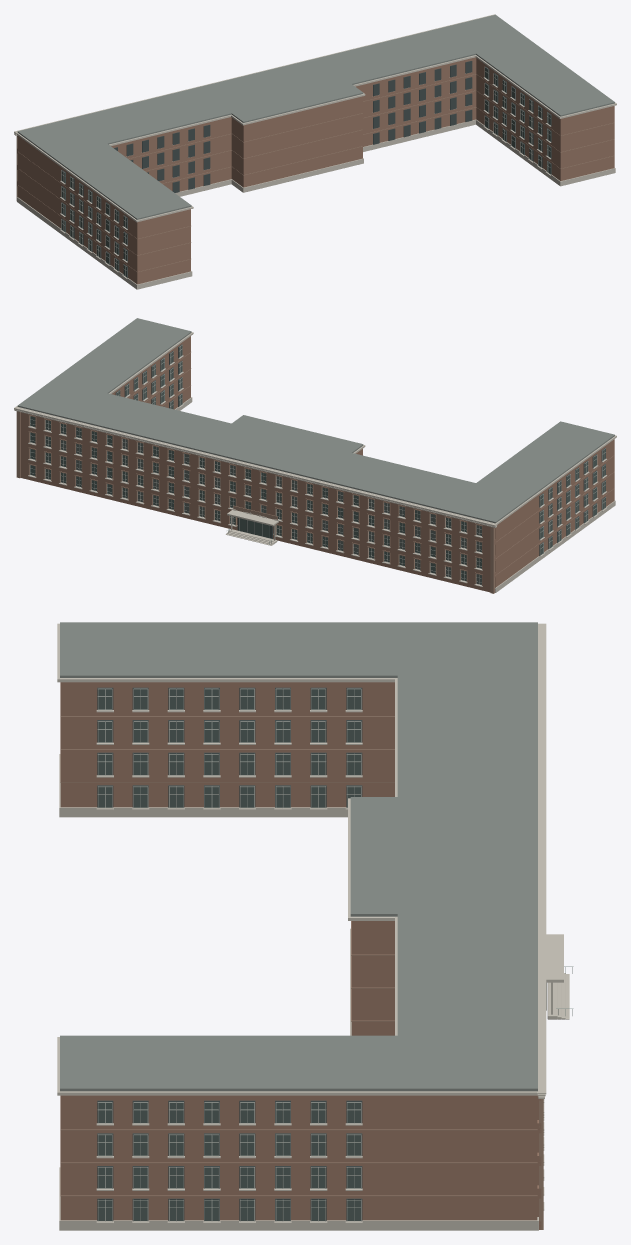
The model's file is lookdev_teaching_hall.glb.
The picture shows the model from 3 angles, top to bottom: view 1: azimuth 30°, elevation 25°; view 2: azimuth 150°, elevation 25°; view 3: azimuth 270°, elevation 25°; orthographic projection. The views are drawn at different scales.
Visible parts, largest first — view 1: ArchivedLookDevHall_Architecture_Brick, ArchivedLookDevHall_Architecture_Roof, ArchivedLookDevHall_Architecture_Stone, ArchivedLookDevHall_Architecture_Dark, ArchivedLookDevHall_Architecture_Glass, ArchivedLookDevHall_Architecture_BrickWarm, ArchivedLookDevHall_Architecture_Frame; view 2: ArchivedLookDevHall_Architecture_Brick, ArchivedLookDevHall_Architecture_Roof, ArchivedLookDevHall_Architecture_Stone, ArchivedLookDevHall_Architecture_BrickWarm, ArchivedLookDevHall_Architecture_Glass, ArchivedLookDevHall_Architecture_Frame, ArchivedLookDevHall_Architecture_GlassLight, ArchivedLookDevHall_Architecture_Dark; view 3: ArchivedLookDevHall_Architecture_Roof, ArchivedLookDevHall_Architecture_Brick, ArchivedLookDevHall_Architecture_Stone, ArchivedLookDevHall_Architecture_Glass, ArchivedLookDevHall_Architecture_Frame, ArchivedLookDevHall_Architecture_Dark, ArchivedLookDevHall_Architecture_BrickWarm, CorrectedEntry_DioArchitecture_Stone.
Part boxes in pixels (x1,y1,x2,y2): ArchivedLookDevHall_Architecture_Brick: (17, 57, 614, 284); ArchivedLookDevHall_Architecture_Roof: (17, 14, 614, 219); ArchivedLookDevHall_Architecture_Stone: (14, 14, 616, 289); ArchivedLookDevHall_Architecture_Dark: (61, 61, 551, 277); ArchivedLookDevHall_Architecture_Glass: (61, 67, 550, 277); ArchivedLookDevHall_Architecture_BrickWarm: (16, 74, 614, 272); ArchivedLookDevHall_Architecture_Frame: (61, 67, 550, 277); ArchivedLookDevHall_Architecture_Brick: (20, 336, 614, 592); ArchivedLookDevHall_Architecture_Roof: (17, 318, 614, 523); ArchivedLookDevHall_Architecture_Stone: (14, 332, 616, 592); ArchivedLookDevHall_Architecture_BrickWarm: (16, 352, 614, 593); ArchivedLookDevHall_Architecture_Glass: (30, 345, 605, 580); ArchivedLookDevHall_Architecture_Frame: (30, 345, 605, 585); ArchivedLookDevHall_Architecture_GlassLight: (61, 439, 481, 584); ArchivedLookDevHall_Architecture_Dark: (115, 344, 605, 555); ArchivedLookDevHall_Architecture_Roof: (60, 622, 537, 1091); ArchivedLookDevHall_Architecture_Brick: (60, 682, 541, 1229); ArchivedLookDevHall_Architecture_Stone: (57, 623, 563, 1230); ArchivedLookDevHall_Architecture_Glass: (98, 689, 360, 1220); ArchivedLookDevHall_Architecture_Frame: (97, 688, 546, 1221); ArchivedLookDevHall_Architecture_Dark: (97, 687, 362, 1220); ArchivedLookDevHall_Architecture_BrickWarm: (60, 682, 543, 1229); CorrectedEntry_DioArchitecture_Stone: (547, 973, 569, 1019).
Size of the model in its own units: 125 by 17.58 by 58.1.
